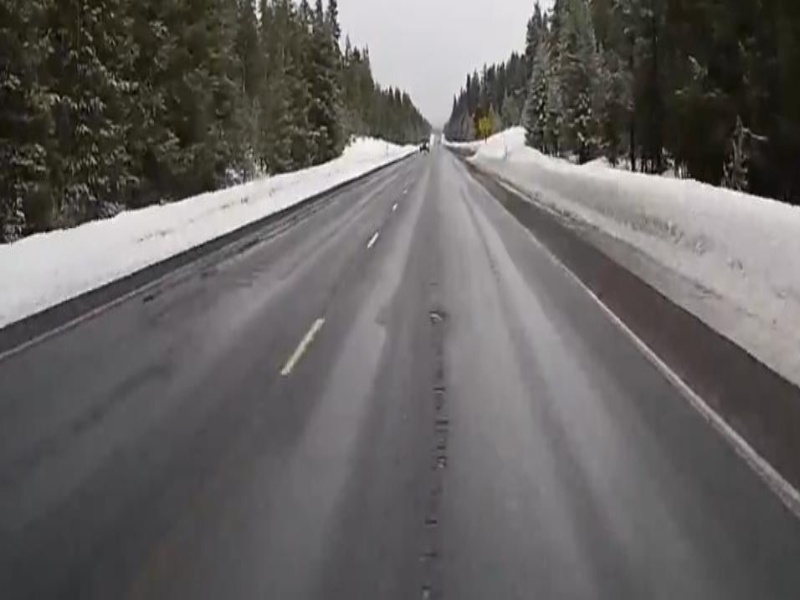pothole: (424, 309, 445, 331)
